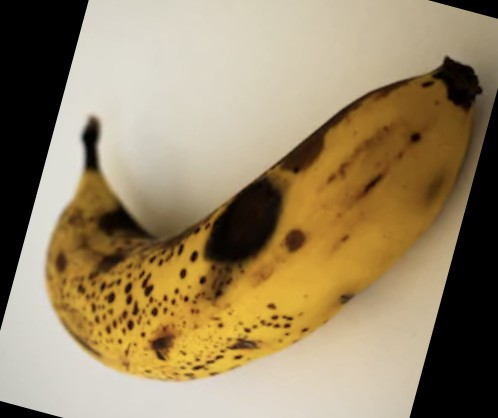rotten_banana: (45, 54, 483, 382)
